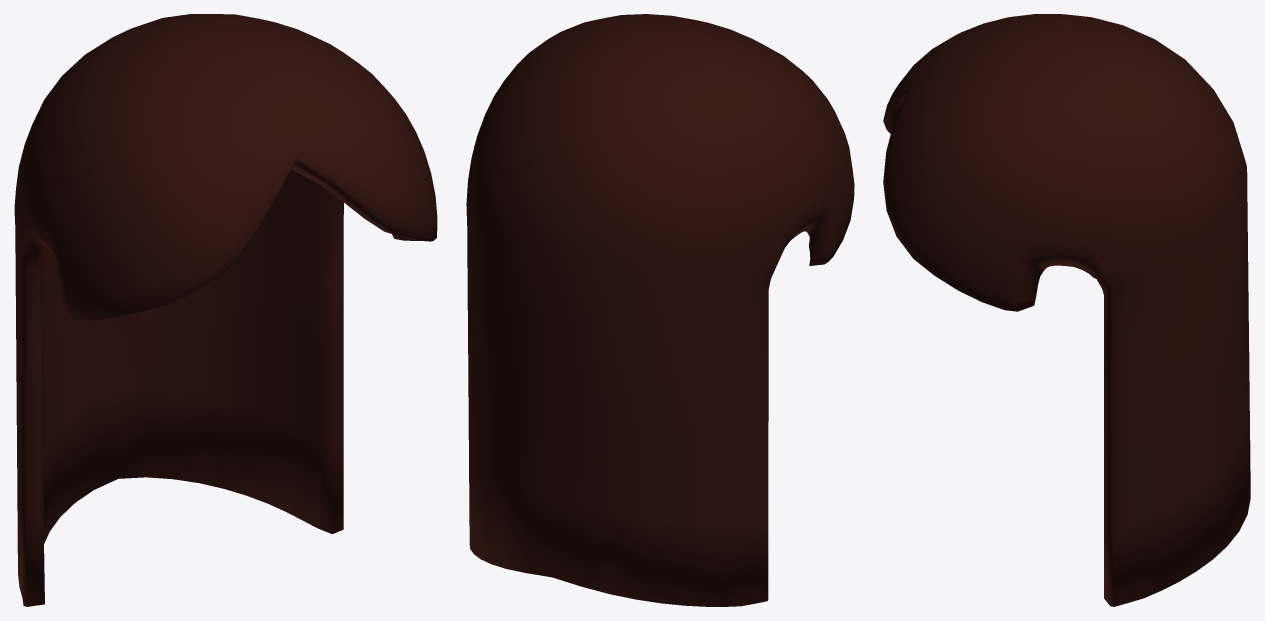
Rendered from straight.fbx.
3 views of the same model, side by side, from view 1: azimuth 30°, elevation 25°; view 2: azimuth 150°, elevation 25°; view 3: azimuth 270°, elevation 25° (orthographic). The views are drawn at different scales.
Parts seen in each view (by area): view 1: Cube.018 Remeshed.002; view 2: Cube.018 Remeshed.002; view 3: Cube.018 Remeshed.002.
Boxes of the visible parts, box(x1,y1,x2,y2) form: Cube.018 Remeshed.002: box(14, 14, 437, 606); Cube.018 Remeshed.002: box(466, 14, 854, 606); Cube.018 Remeshed.002: box(883, 14, 1250, 606).
Bounding box in the file's own units: 129 × 192 × 128.
